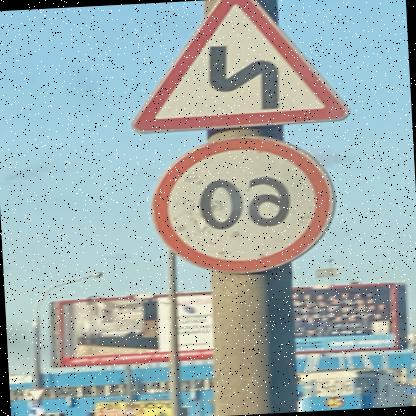speedlimit: (148, 128, 340, 276)
